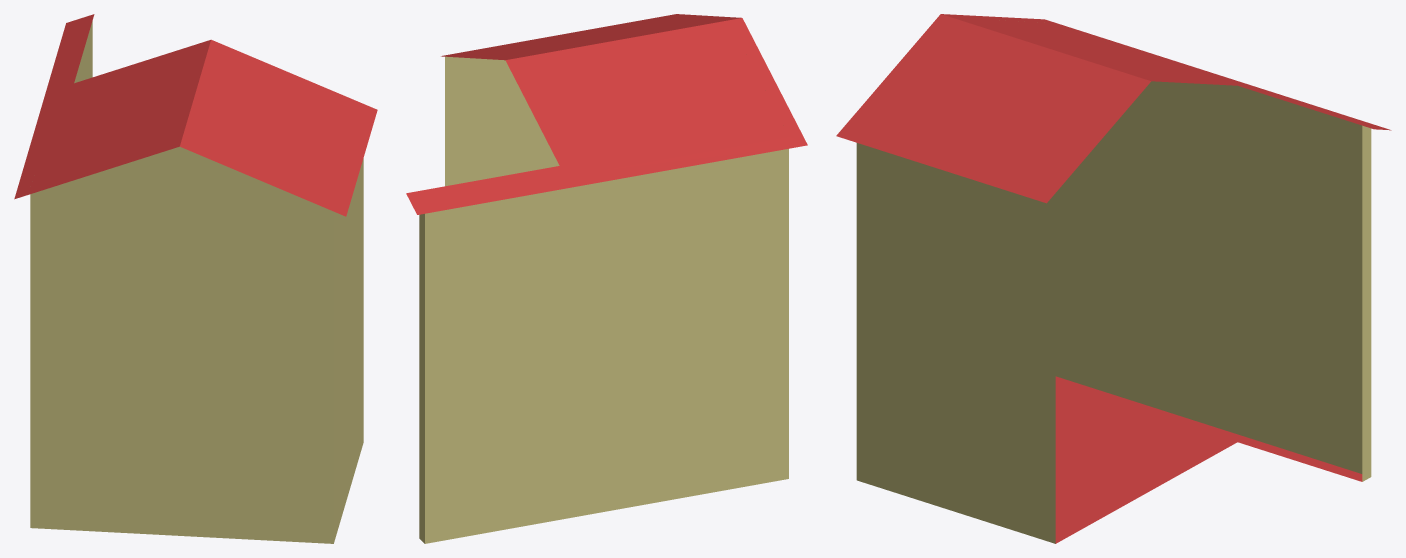
3 renders of one model, left to right at view 1: azimuth 30°, elevation 25°; view 2: azimuth 150°, elevation 25°; view 3: azimuth 270°, elevation 25°, orthographic. The views are drawn at different scales.
Size of the model in its own units: 7.35 by 9.39 by 7.62.
